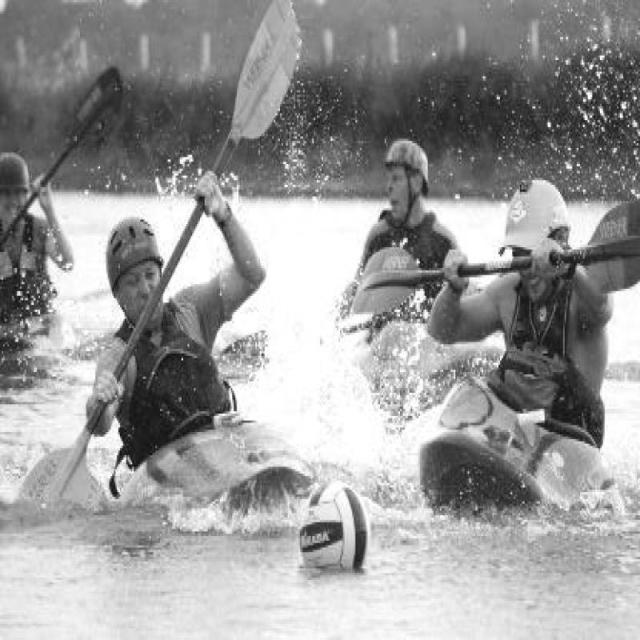volleyball: (297, 478, 371, 570)
